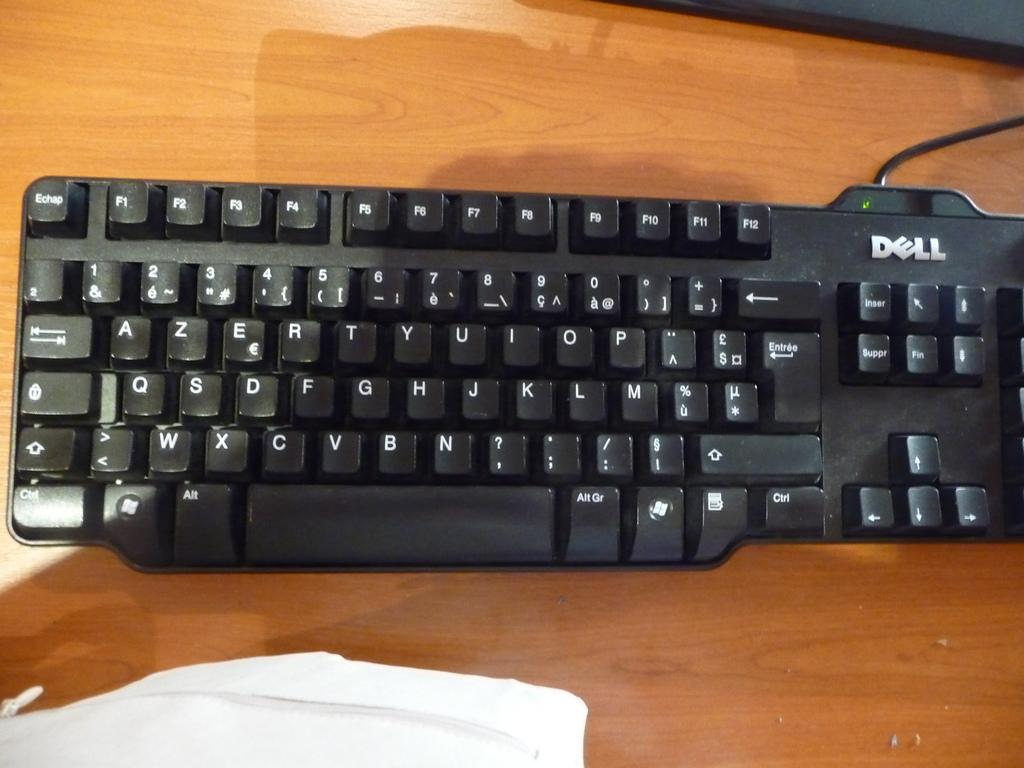Computer-keyboard: (3, 176, 1023, 574)
